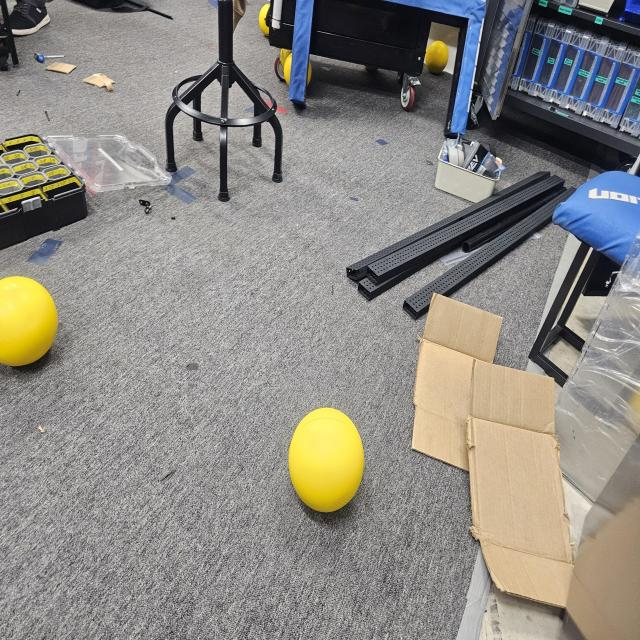Fuel: (282, 402, 372, 518), (1, 264, 63, 379)
